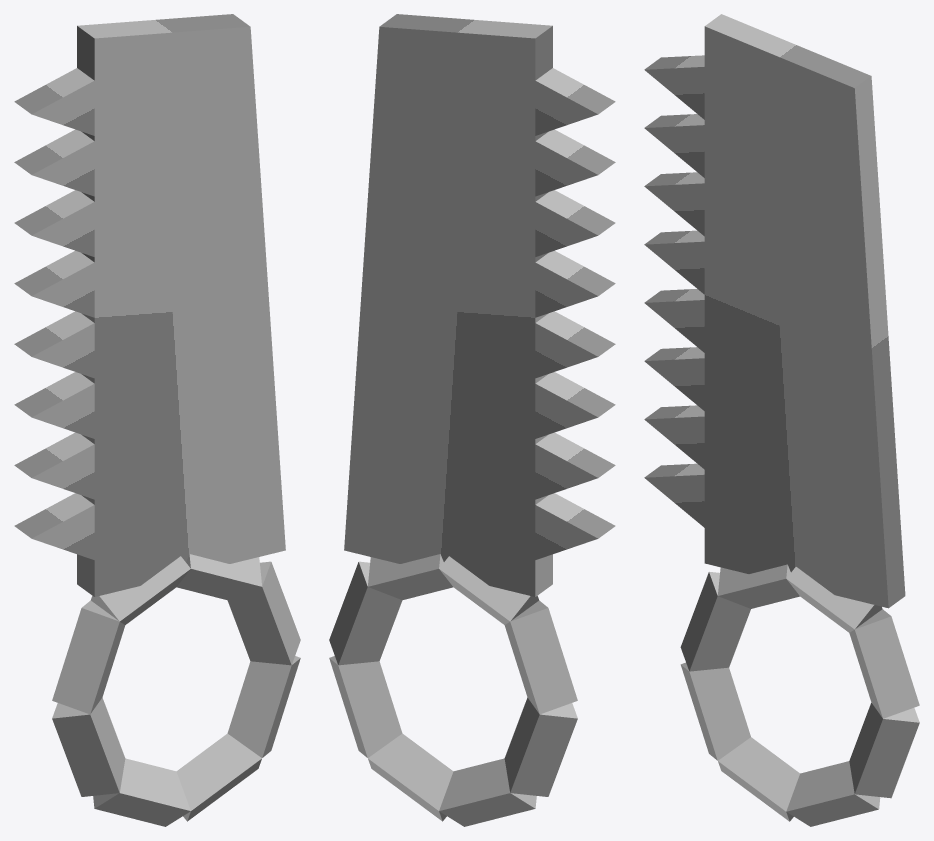
The model's file is chipped_saw.obj.
3 views of the same model, side by side, from view 1: azimuth 30°, elevation 25°; view 2: azimuth 150°, elevation 25°; view 3: azimuth 330°, elevation 25° (orthographic). The views are drawn at different scales.
Parts seen in each view (by area): view 1: blade, handle, teeth; view 2: blade, handle, teeth; view 3: blade, handle, teeth.
Part boxes in pixels (x1,y1,x2,y2): blade: [77, 14, 285, 596]; handle: [52, 554, 300, 826]; teeth: [14, 68, 94, 559]; blade: [344, 14, 552, 596]; handle: [329, 554, 577, 826]; teeth: [535, 68, 615, 559]; blade: [704, 14, 905, 608]; handle: [680, 564, 919, 826]; teeth: [644, 55, 704, 527].
Bounding box in the file's own units: 0.345 × 0.9657 × 0.0625.
